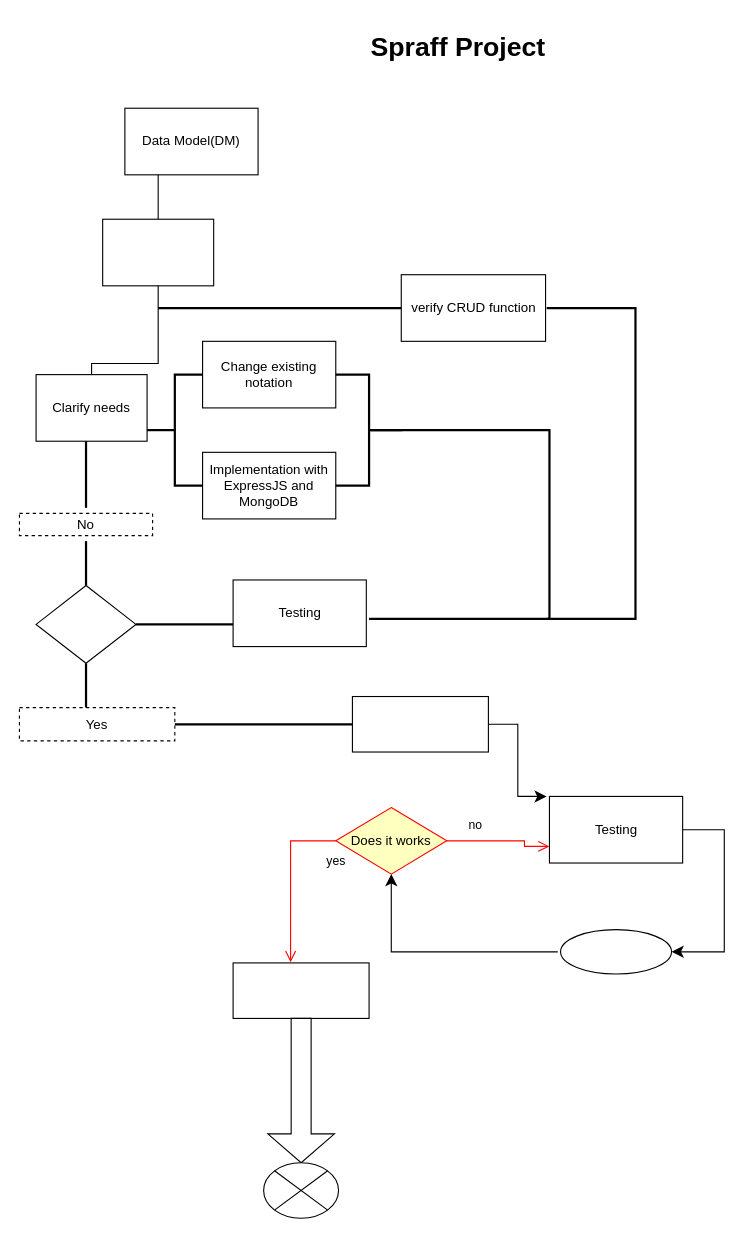
This 755x1238 diagram has some shape labels left out. The box of each missing label's shape, as (x1, y1, x2, y2) in pixels:
Definition: (102, 218, 214, 286)
DM adapted?: (35, 584, 136, 663)
Front implementation: (232, 962, 369, 1018)
Game Implementation: (351, 695, 488, 752)
Optimization: (559, 929, 672, 974)
